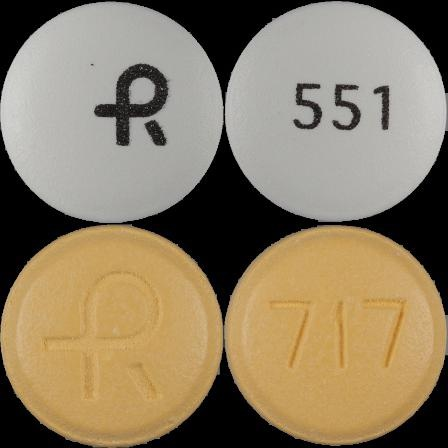21695-039: (0, 0, 224, 224)
